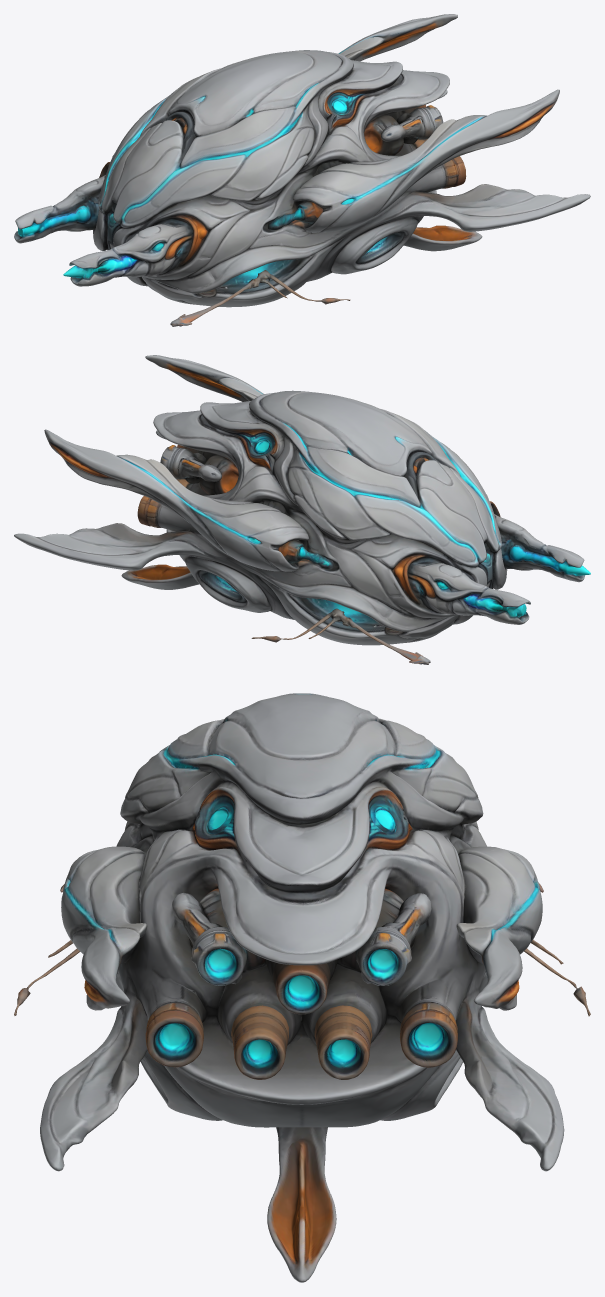
File: alien carrier drone.glb
3 views of the same model, one above another, from view 1: azimuth 30°, elevation 25°; view 2: azimuth 150°, elevation 25°; view 3: azimuth 270°, elevation 25° (orthographic). The views are drawn at different scales.
Visible parts, largest first — view 1: tripo_node_5956f9c2-4e25-4811-b961-2c9dd6e29038; view 2: tripo_node_5956f9c2-4e25-4811-b961-2c9dd6e29038; view 3: tripo_node_5956f9c2-4e25-4811-b961-2c9dd6e29038.
Part boxes in pixels (left/top/right/bottom): tripo_node_5956f9c2-4e25-4811-b961-2c9dd6e29038: left=14, top=14, right=590, bottom=326; tripo_node_5956f9c2-4e25-4811-b961-2c9dd6e29038: left=14, top=355, right=590, bottom=664; tripo_node_5956f9c2-4e25-4811-b961-2c9dd6e29038: left=14, top=693, right=590, bottom=1282.
Size of the model in its own units: 1 by 0.4565 by 0.6039.
1 material, 1 textured.
